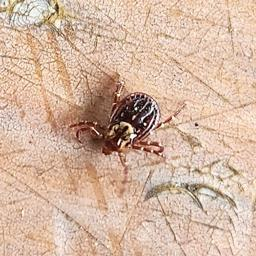Dermacentor variabilis: (69, 80, 186, 161)
